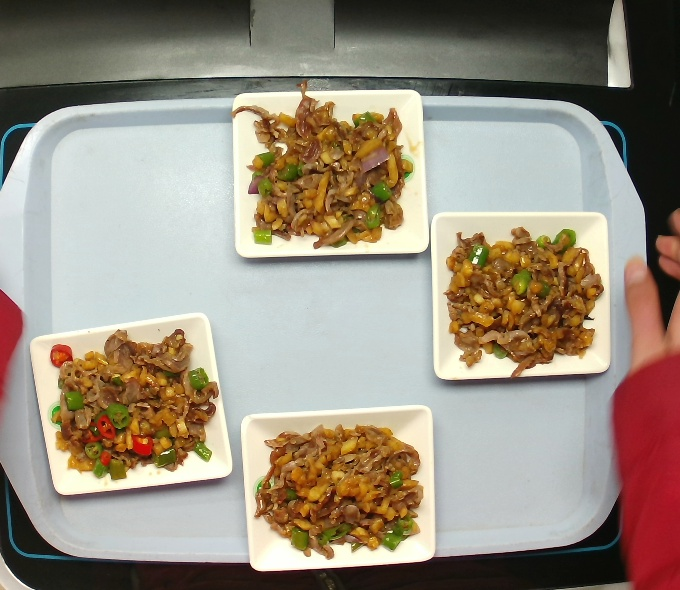wcq-ZhaCaiChaoJiZhen: (43, 310, 229, 494), (233, 85, 421, 260), (248, 417, 432, 566), (438, 217, 603, 381)
